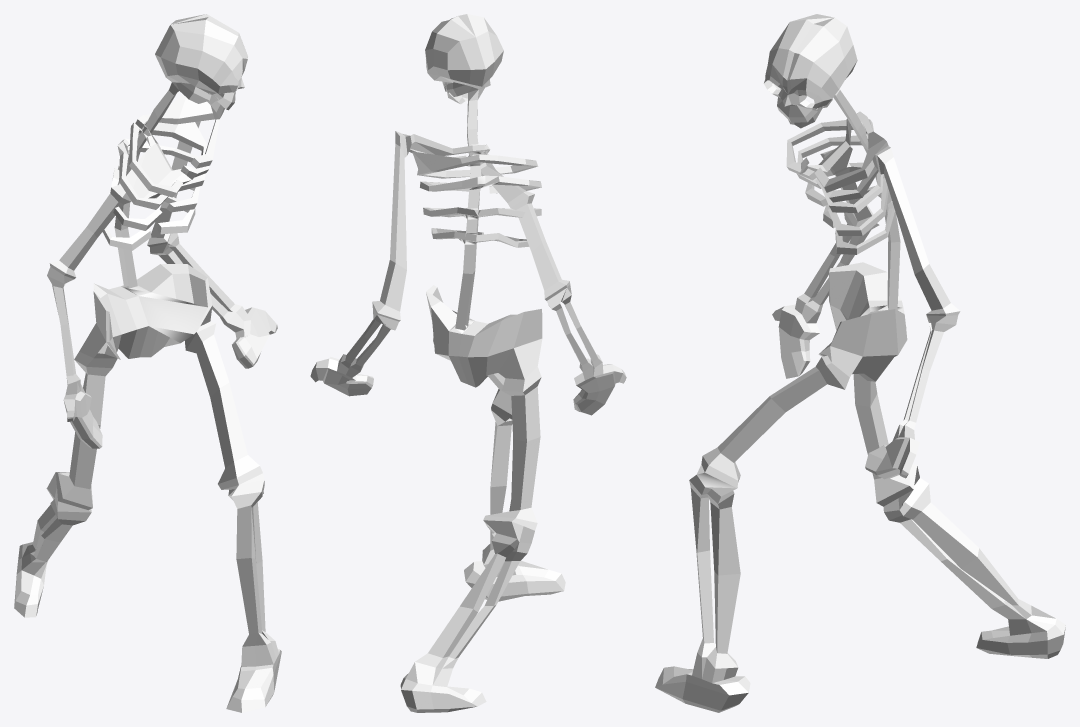
Rendered from SkeletonIdle(42).obj.
3 views of the same model, side by side, from view 1: azimuth 30°, elevation 25°; view 2: azimuth 150°, elevation 25°; view 3: azimuth 270°, elevation 25° (orthographic). The views are drawn at different scales.
Visible parts, largest first — view 1: Object002; view 2: Object002; view 3: Object002.
Boxes of the visible parts, left/top/right/bottom form: Object002: left=14, top=14, right=281, bottom=712; Object002: left=310, top=14, right=626, bottom=712; Object002: left=655, top=14, right=1065, bottom=712.
Bounding box in the file's own units: 491 × 1112 × 610.
